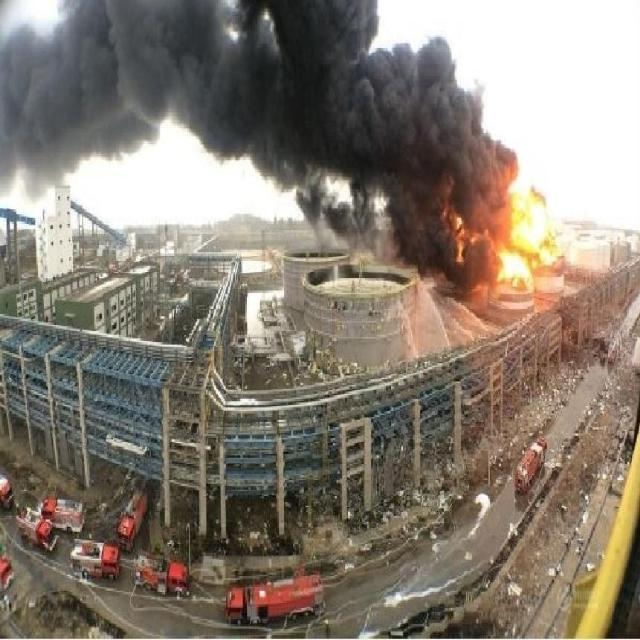Fire: (496, 188, 558, 292), (452, 208, 481, 263)
Smoke: (1, 1, 520, 293)
